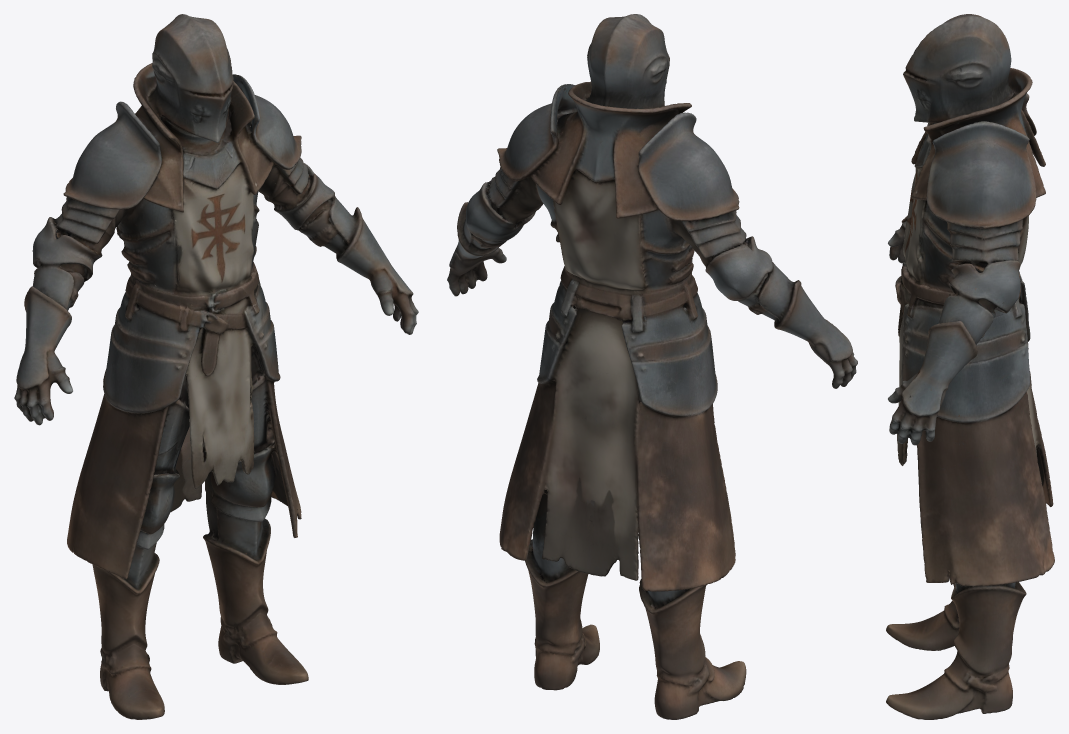
File: Old West Knight (No Hat).fbx
3 renders of one model, left to right at view 1: azimuth 30°, elevation 25°; view 2: azimuth 150°, elevation 25°; view 3: azimuth 270°, elevation 25°, orthographic.
Visible parts, largest first — view 1: mesh_0; view 2: mesh_0; view 3: mesh_0.
Part boxes in pixels (left/top/right/bottom): mesh_0: left=14, top=14, right=418, bottom=719; mesh_0: left=447, top=14, right=857, bottom=719; mesh_0: left=886, top=14, right=1054, bottom=719.
Bounding box in the file's own units: 1.24 × 2 × 0.4629.
